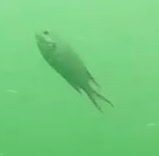smallfish: (31, 21, 119, 119)
